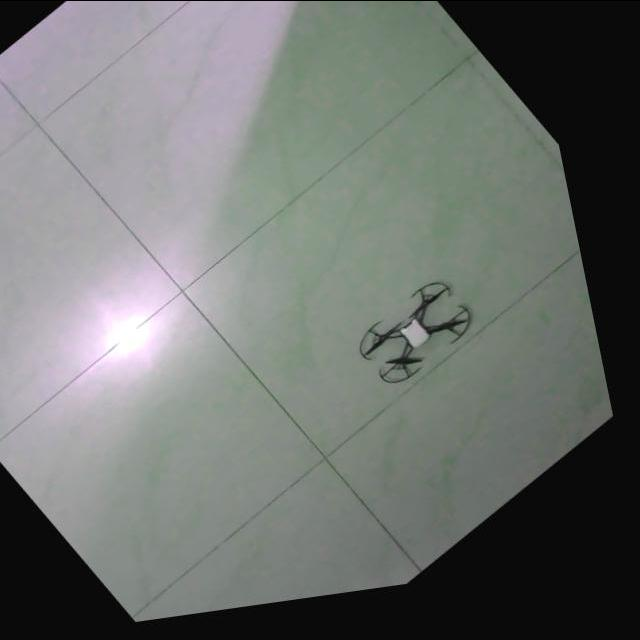drone: (367, 296, 483, 397)
